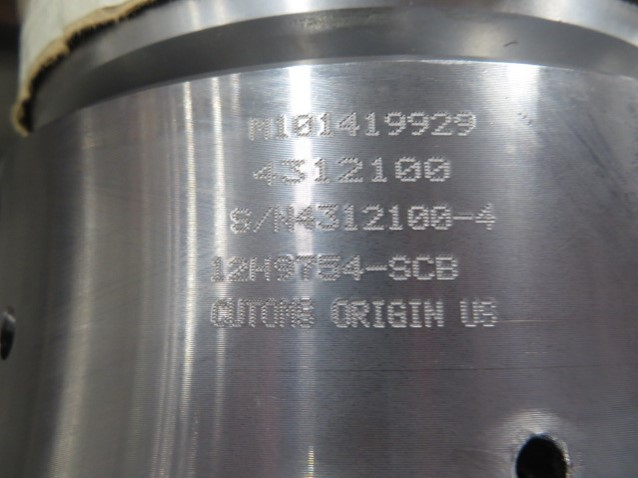character: (422, 154, 454, 186), (240, 115, 273, 145), (334, 156, 366, 186), (392, 155, 422, 186), (275, 157, 308, 185), (452, 108, 482, 138), (273, 251, 297, 288), (225, 204, 252, 236), (478, 295, 502, 331), (315, 204, 341, 237), (360, 202, 386, 234), (329, 295, 352, 331), (248, 255, 273, 288), (366, 155, 392, 186), (411, 251, 436, 283), (423, 297, 446, 331), (205, 296, 228, 330), (336, 109, 362, 139), (341, 252, 366, 283), (317, 252, 341, 284), (436, 251, 460, 283), (309, 156, 334, 186), (252, 202, 273, 237), (387, 296, 408, 331), (405, 203, 430, 232), (387, 253, 411, 283), (273, 202, 294, 236), (429, 108, 452, 139), (203, 254, 226, 285), (298, 295, 317, 332), (252, 157, 275, 187), (430, 202, 453, 232), (294, 254, 317, 284), (278, 298, 298, 332), (294, 204, 315, 236), (360, 109, 383, 138), (406, 110, 429, 139), (226, 255, 248, 285), (341, 199, 358, 237), (383, 110, 406, 138), (352, 296, 370, 331), (227, 293, 244, 330), (459, 298, 478, 331), (290, 113, 313, 140), (477, 202, 498, 231), (370, 296, 387, 331), (386, 203, 405, 234), (313, 112, 334, 140), (244, 295, 261, 329), (273, 113, 290, 145), (261, 298, 278, 330), (408, 296, 423, 331), (453, 211, 476, 223), (365, 264, 388, 274)
